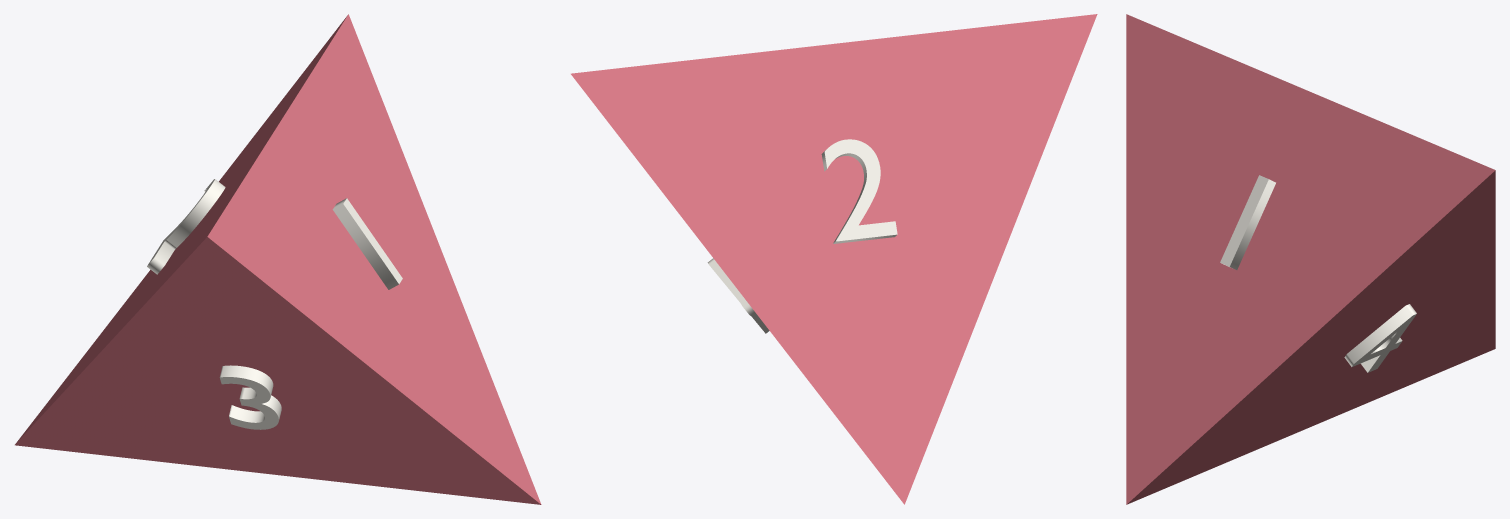
Rendered from Dice_D4.glb.
The picture shows the model from 3 angles, left to right: view 1: azimuth 30°, elevation 25°; view 2: azimuth 150°, elevation 25°; view 3: azimuth 270°, elevation 25°; orthographic projection. The views are drawn at different scales.
Parts seen in each view (by area): view 1: Dice_D4; view 2: Dice_D4; view 3: Dice_D4.
Boxes of the visible parts, x1=… form: Dice_D4: x1=15, y1=14, x2=541, y2=504; Dice_D4: x1=571, y1=14, x2=1097, y2=504; Dice_D4: x1=1126, y1=14, x2=1495, y2=504.
Bounding box in the file's own units: 0.5774 × 0.5774 × 0.5774.
